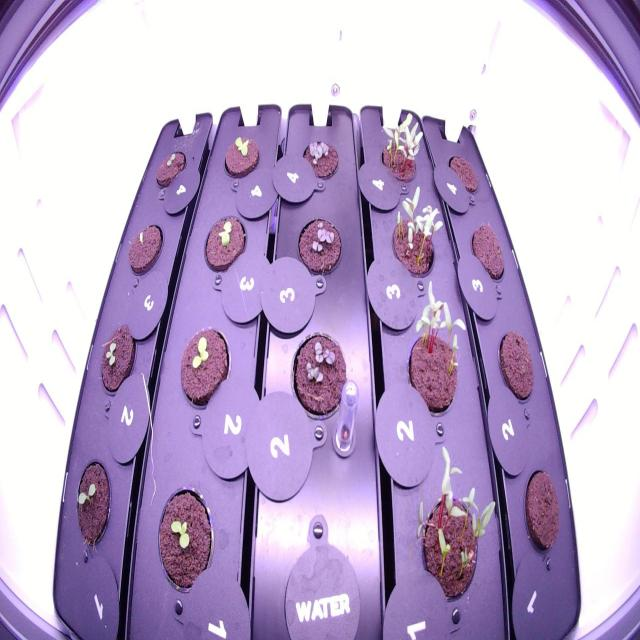germination: (411, 439, 500, 611), (395, 274, 472, 428), (152, 476, 218, 600), (380, 180, 449, 285), (288, 324, 354, 429), (173, 316, 234, 416), (372, 104, 431, 193), (68, 451, 116, 557), (198, 206, 250, 278), (95, 316, 139, 401), (294, 210, 346, 280), (121, 216, 168, 284), (218, 122, 264, 187), (293, 129, 345, 185), (150, 142, 190, 192)
pod: (518, 457, 566, 563), (492, 324, 541, 409), (466, 213, 511, 288), (440, 146, 484, 200)
